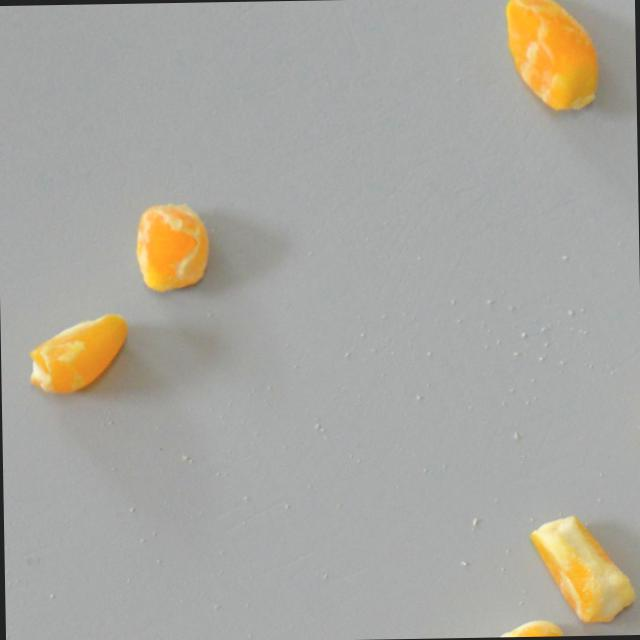pelicula: (538, 511, 637, 626), (505, 0, 604, 113), (28, 311, 131, 394), (132, 200, 211, 292), (443, 614, 564, 638)
